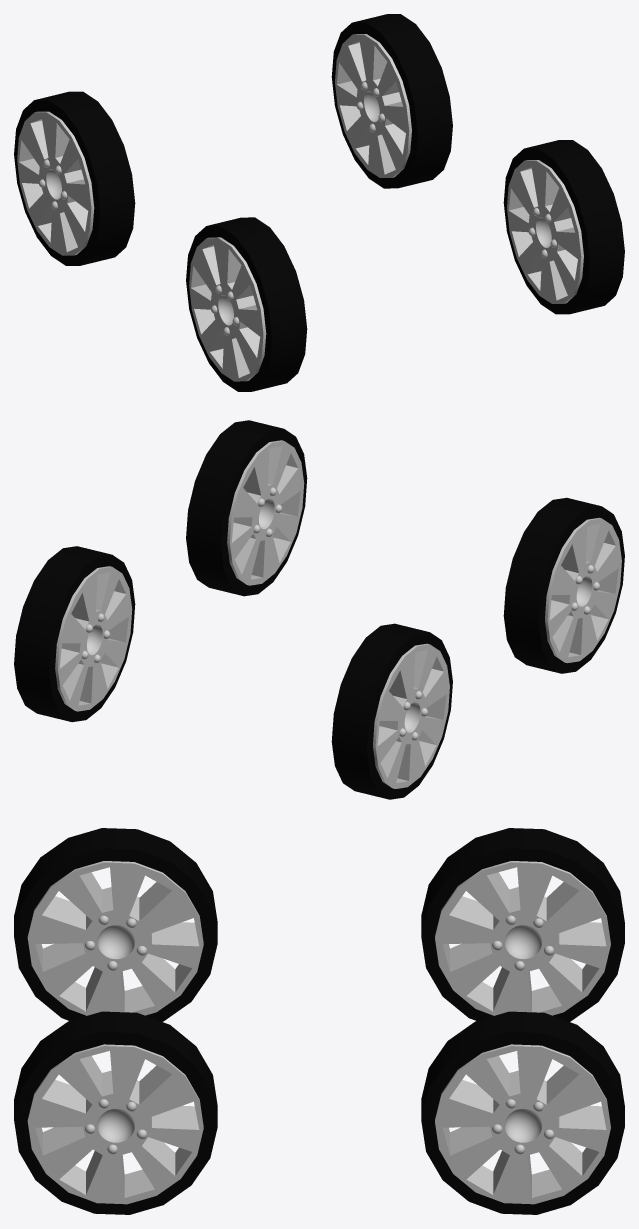
Rendered from taiyakansei.FBX.
3 renders of one model, top to bottom at view 1: azimuth 30°, elevation 25°; view 2: azimuth 150°, elevation 25°; view 3: azimuth 270°, elevation 25°, orthographic. The views are drawn at different scales.
Visible parts, largest first — view 1: Tube004, Tube003, Tube001, Tube002, Cylinder004, Cylinder003, Cylinder002, Cylinder001; view 2: Tube002, Tube003, Tube004, Tube001, Cylinder002, Cylinder001, Cylinder003, Cylinder004; view 3: Cylinder002, Cylinder001, Cylinder004, Cylinder003, Tube001, Tube002, Tube003, Tube004.
Boxes of the visible parts, x1,y1,x2,y2 form: Tube004: (14, 91, 135, 265); Tube003: (186, 217, 307, 391); Tube001: (503, 140, 624, 314); Tube002: (331, 14, 452, 188); Cylinder004: (17, 111, 94, 255); Cylinder003: (189, 237, 266, 381); Cylinder002: (335, 34, 411, 177); Cylinder001: (507, 160, 583, 303); Tube002: (14, 546, 135, 722); Tube003: (503, 497, 624, 673); Tube004: (331, 623, 452, 799); Tube001: (186, 420, 307, 596); Cylinder002: (55, 566, 132, 711); Cylinder001: (227, 440, 304, 585); Cylinder003: (545, 517, 621, 663); Cylinder004: (373, 643, 449, 788); Cylinder002: (435, 1044, 610, 1204); Cylinder001: (27, 1044, 203, 1204); Cylinder004: (435, 861, 610, 1015); Cylinder003: (27, 861, 203, 1015); Tube001: (14, 1011, 217, 1214); Tube002: (421, 1011, 624, 1214); Tube003: (14, 828, 217, 1021); Tube004: (421, 828, 624, 1021).
Size of the model in its own units: 92.17 by 113 by 37.21.
Materials: 2 (2 with a texture image).
